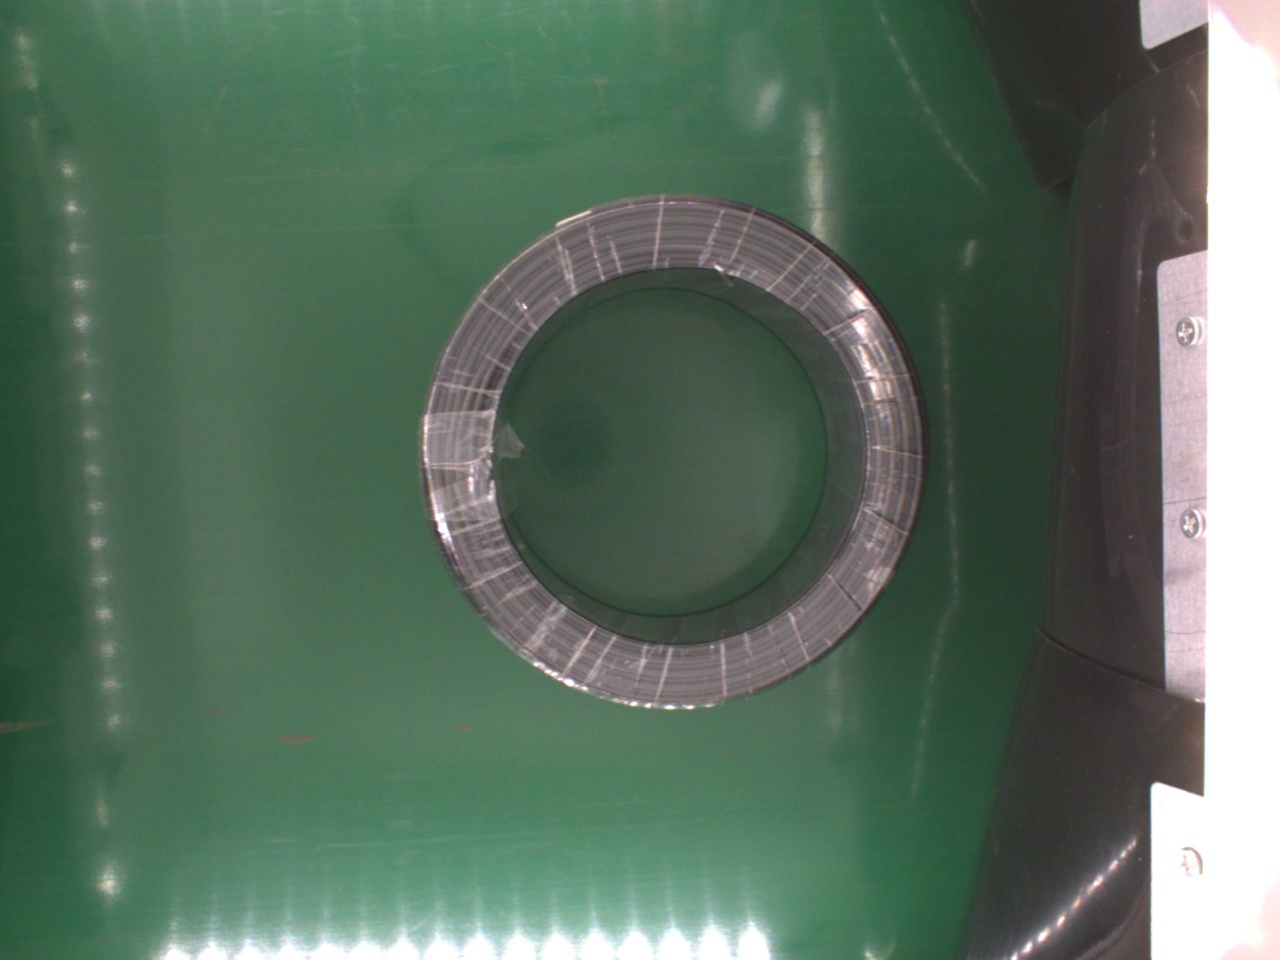black: (414, 197, 927, 707)
